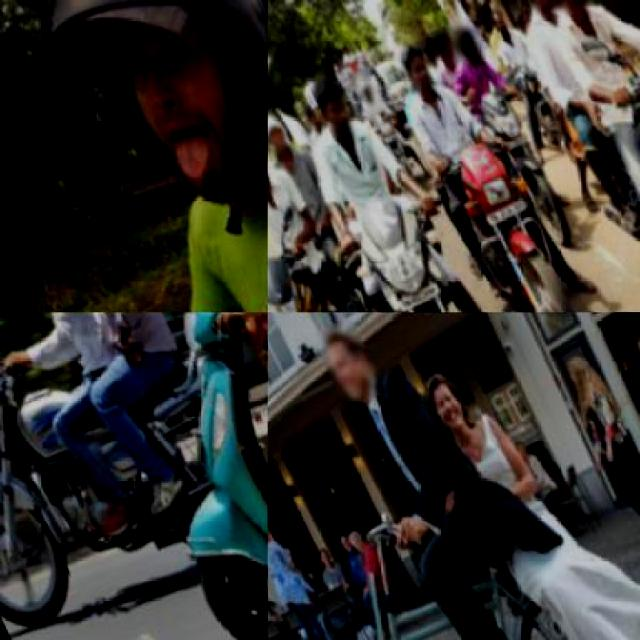With Helmet: (0, 0, 266, 262)
Without Helmet: (308, 312, 395, 411), (386, 22, 454, 101), (304, 59, 368, 138), (445, 6, 493, 62), (348, 58, 394, 114), (268, 92, 303, 158), (482, 0, 526, 42), (429, 18, 468, 64), (268, 114, 288, 194), (511, 0, 571, 15)
